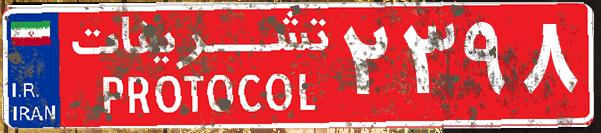2: (340, 20, 400, 115)
3: (400, 20, 460, 115)
8: (520, 20, 580, 115)
9: (460, 20, 520, 115)
تشریفات: (60, 8, 340, 125)
